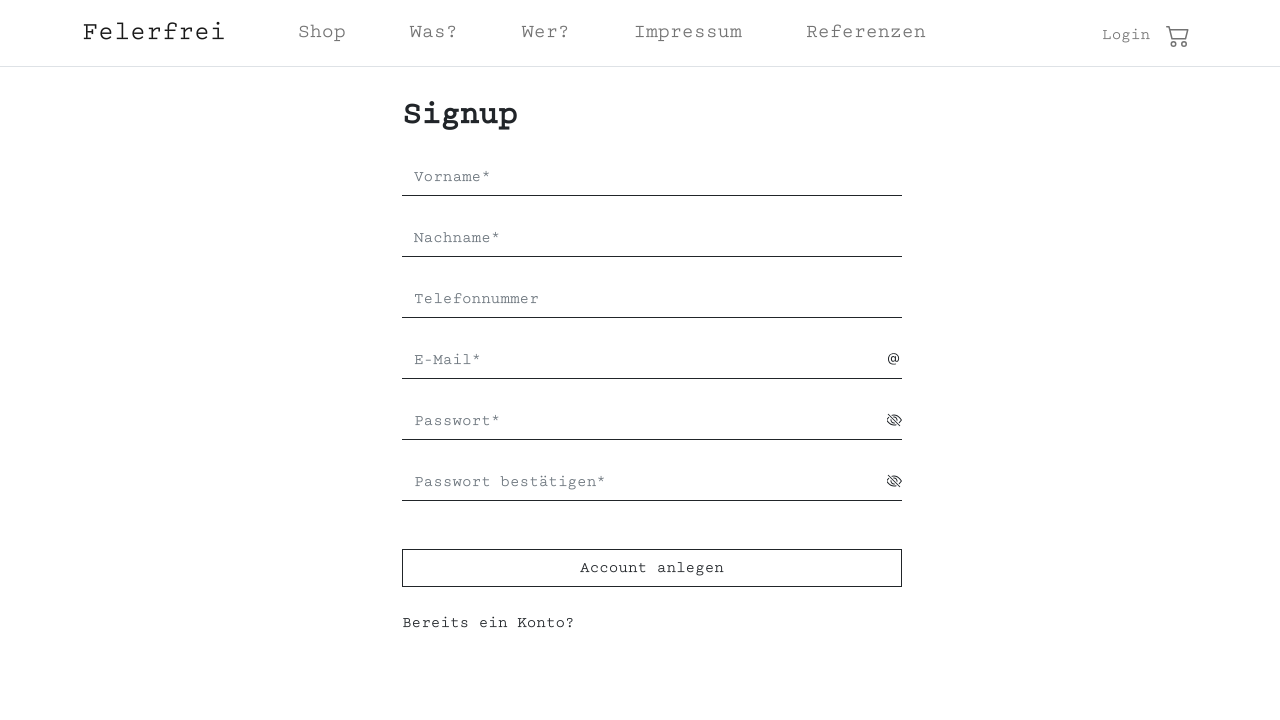
Test: Signup › signup#6 Can not sign in if Email is empty
The image size is (1280, 720).
Type "Max" into the field with placeholder "Vorname*" at (652, 178), box [402, 159, 902, 196]
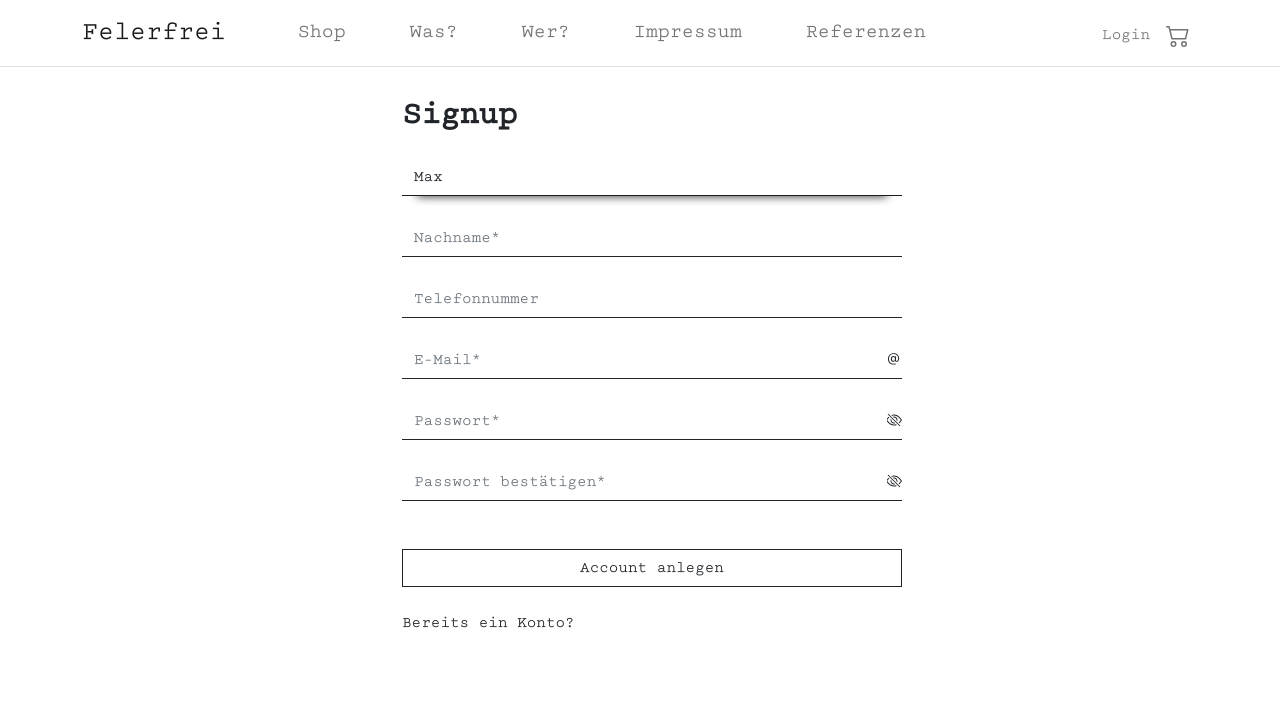
Type "Mustermann" into the field with placeholder "Nachname*" at (652, 239), box [402, 220, 902, 257]
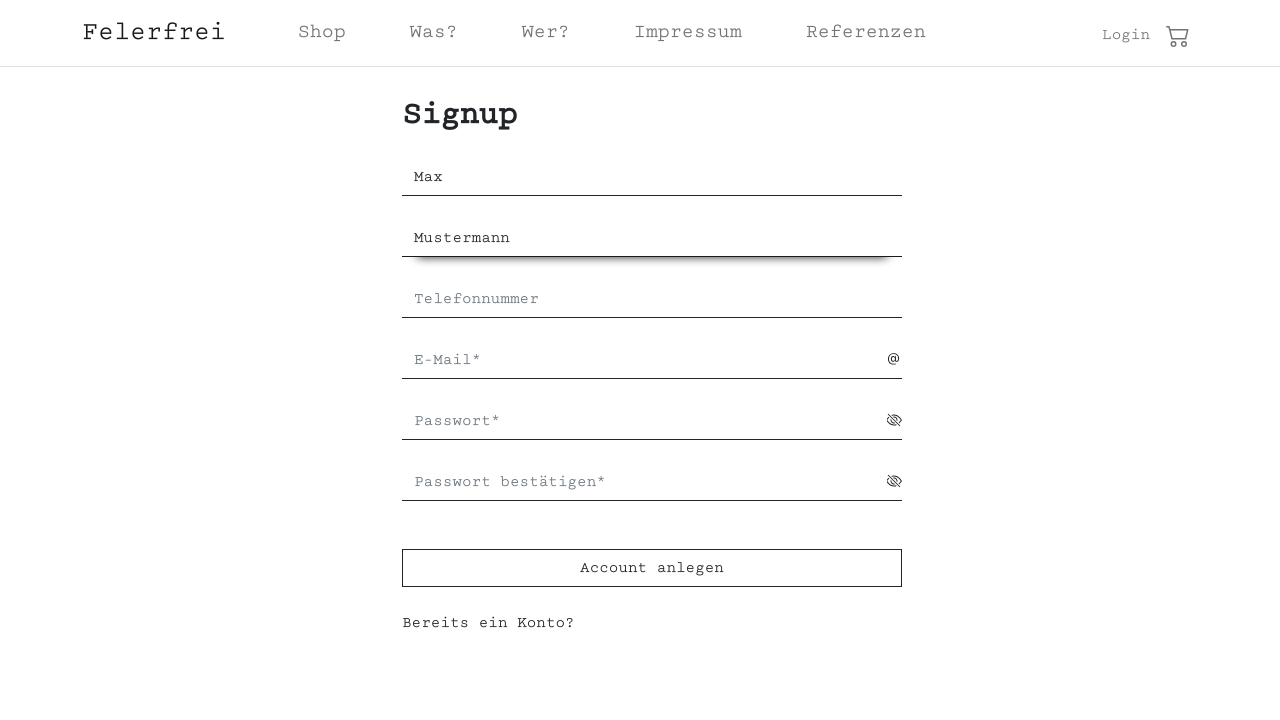
Type "0123456789" into the field with placeholder "Telefonnummer" at (652, 300), box [402, 281, 902, 318]
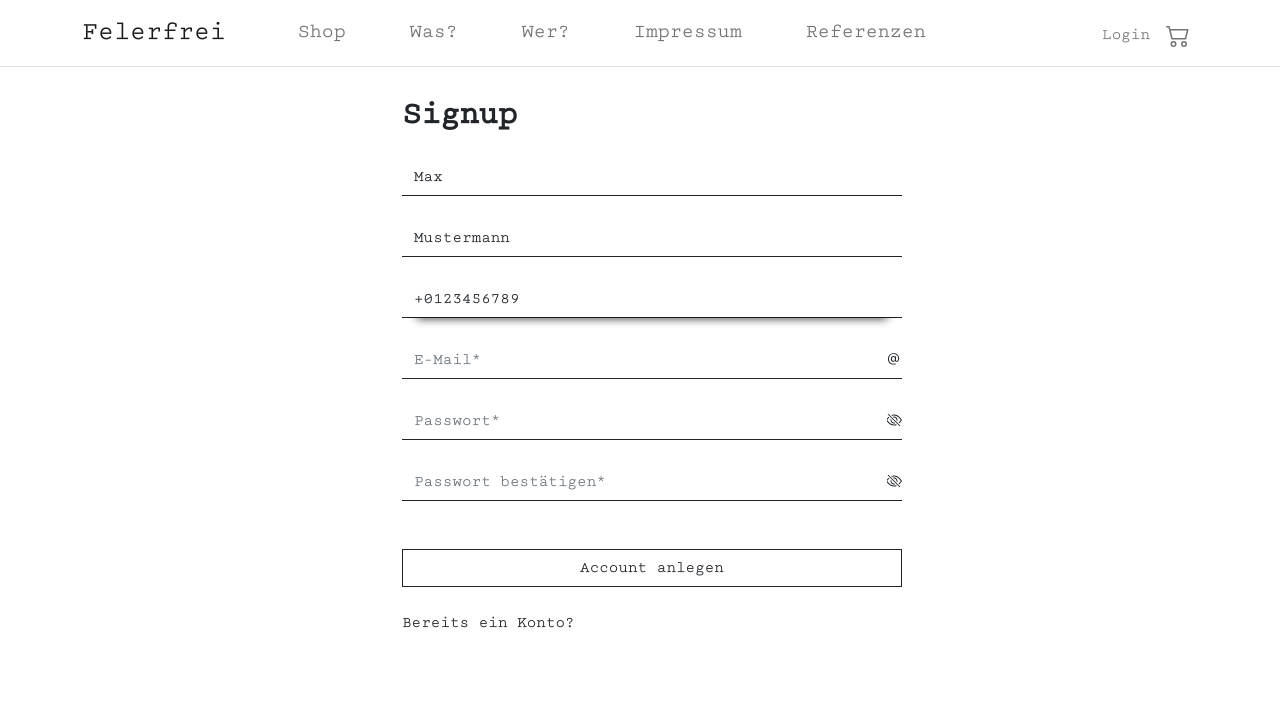
Type "!Passwort123" into the password field with placeholder "Passwort*" at (645, 422), box [402, 403, 887, 440]
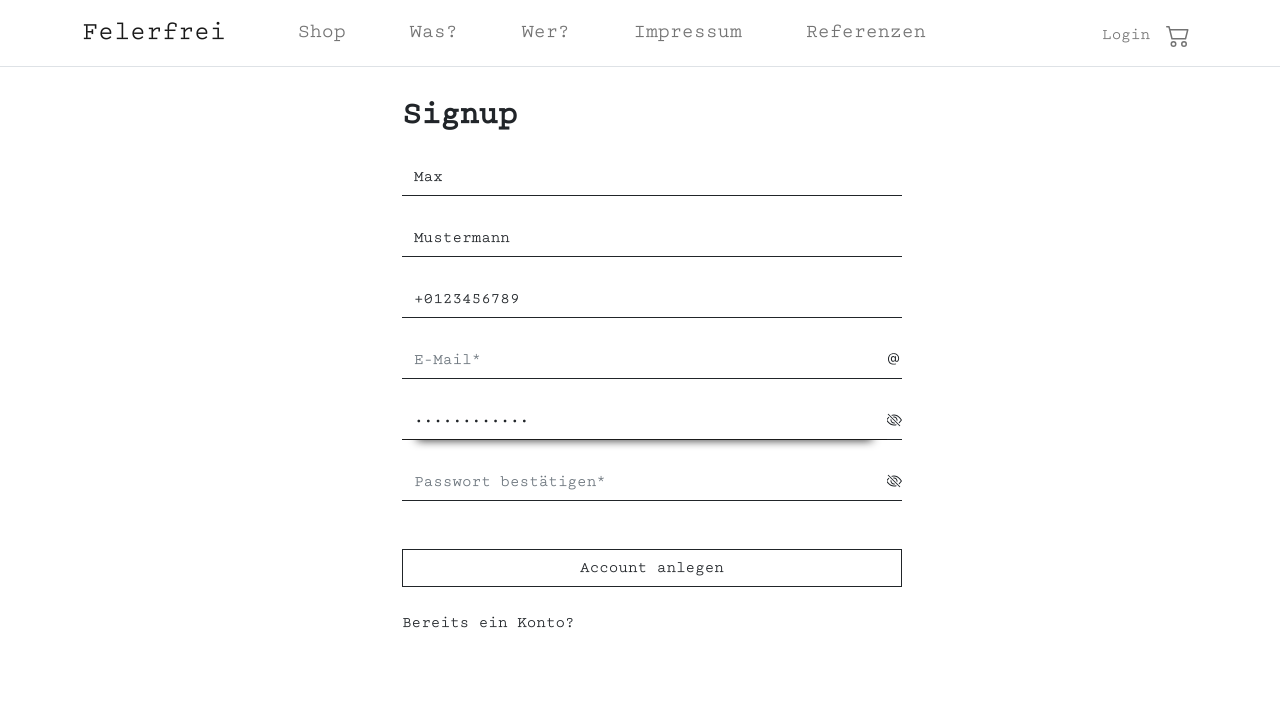
Type "!Passwort123" into the password field with placeholder "Passwort bestätigen*" at (645, 483), box [402, 464, 887, 501]
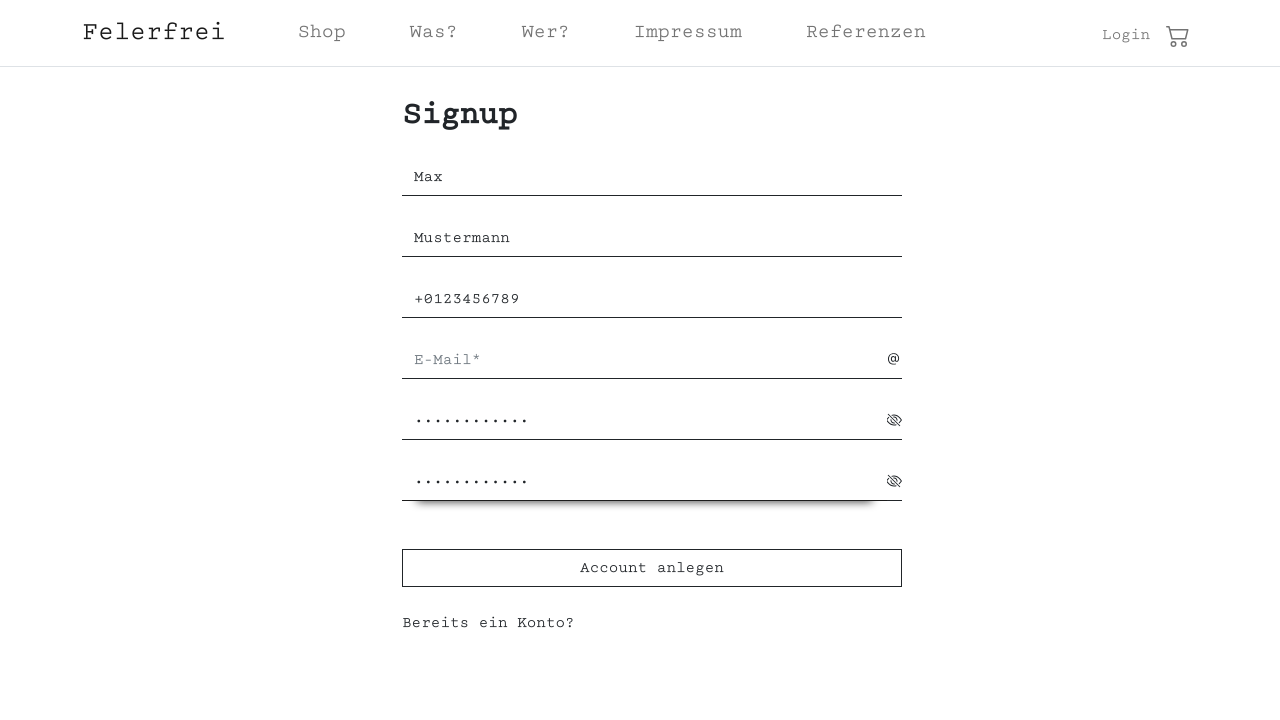
Click the button "Account anlegen" at (652, 568), box [402, 549, 902, 587]
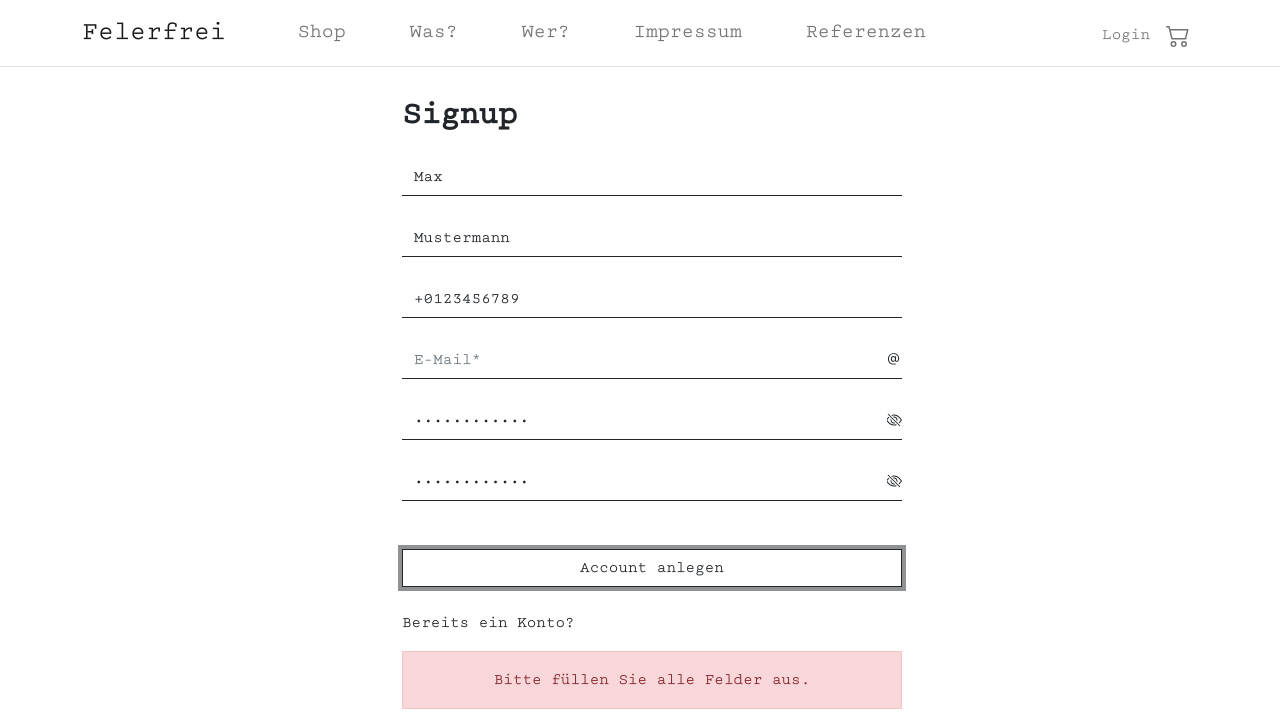
expect the text "Bitte füllen Sie alle Felder aus" is shown: met, box [494, 673, 811, 687]
